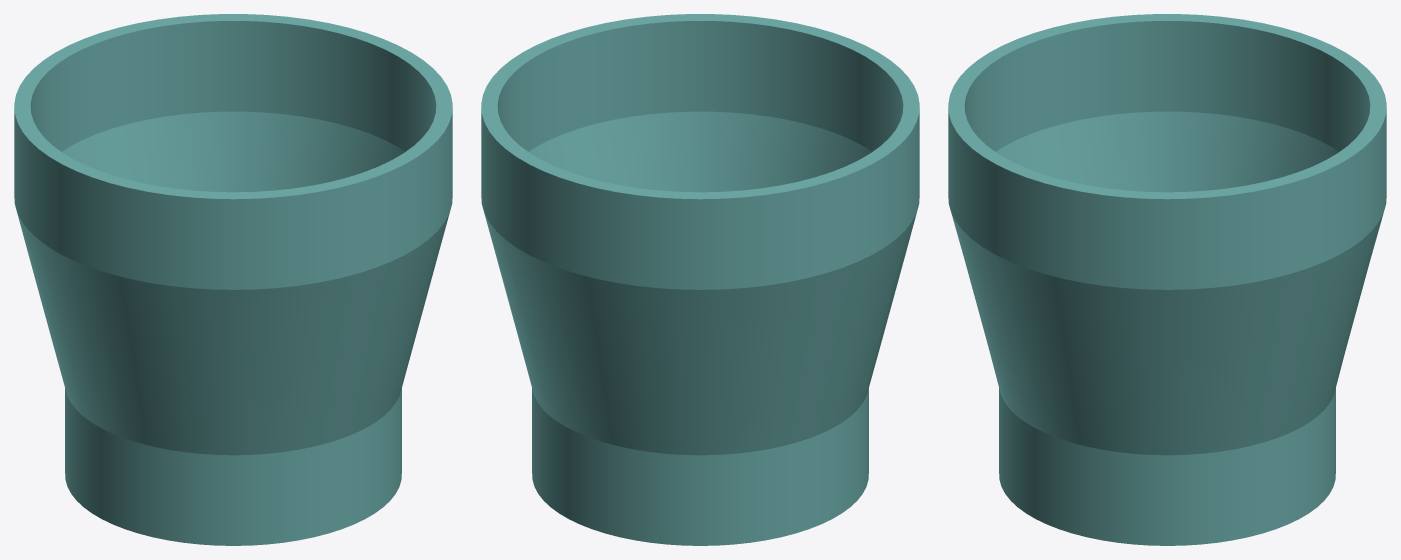
Rendered from step_15.glb.
The picture shows the model from 3 angles, left to right: view 1: azimuth 30°, elevation 25°; view 2: azimuth 150°, elevation 25°; view 3: azimuth 270°, elevation 25°; orthographic projection.
Parts seen in each view (by area): view 1: part__reducer left riser; view 2: part__reducer left riser; view 3: part__reducer left riser.
Part boxes in pixels (left/top/right/bottom): part__reducer left riser: left=14, top=14, right=452, bottom=545; part__reducer left riser: left=481, top=14, right=919, bottom=545; part__reducer left riser: left=948, top=14, right=1386, bottom=545.
Bounding box in the file's own units: 219 × 203 × 219.
